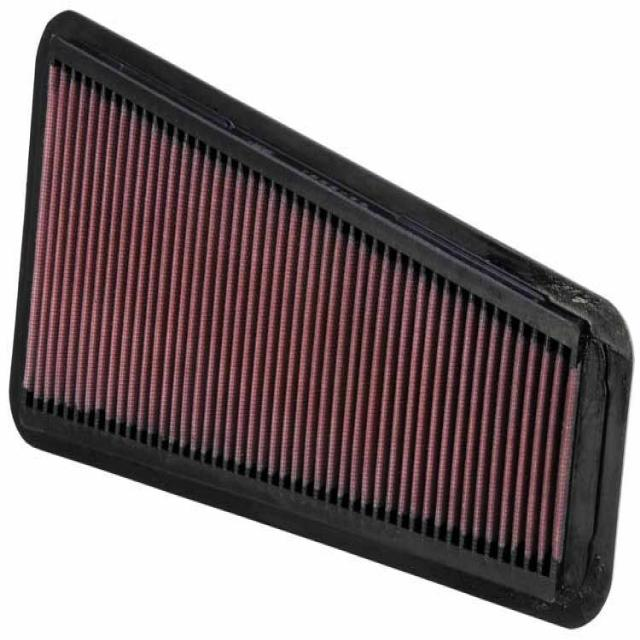air_filter: (20, 7, 633, 621)
